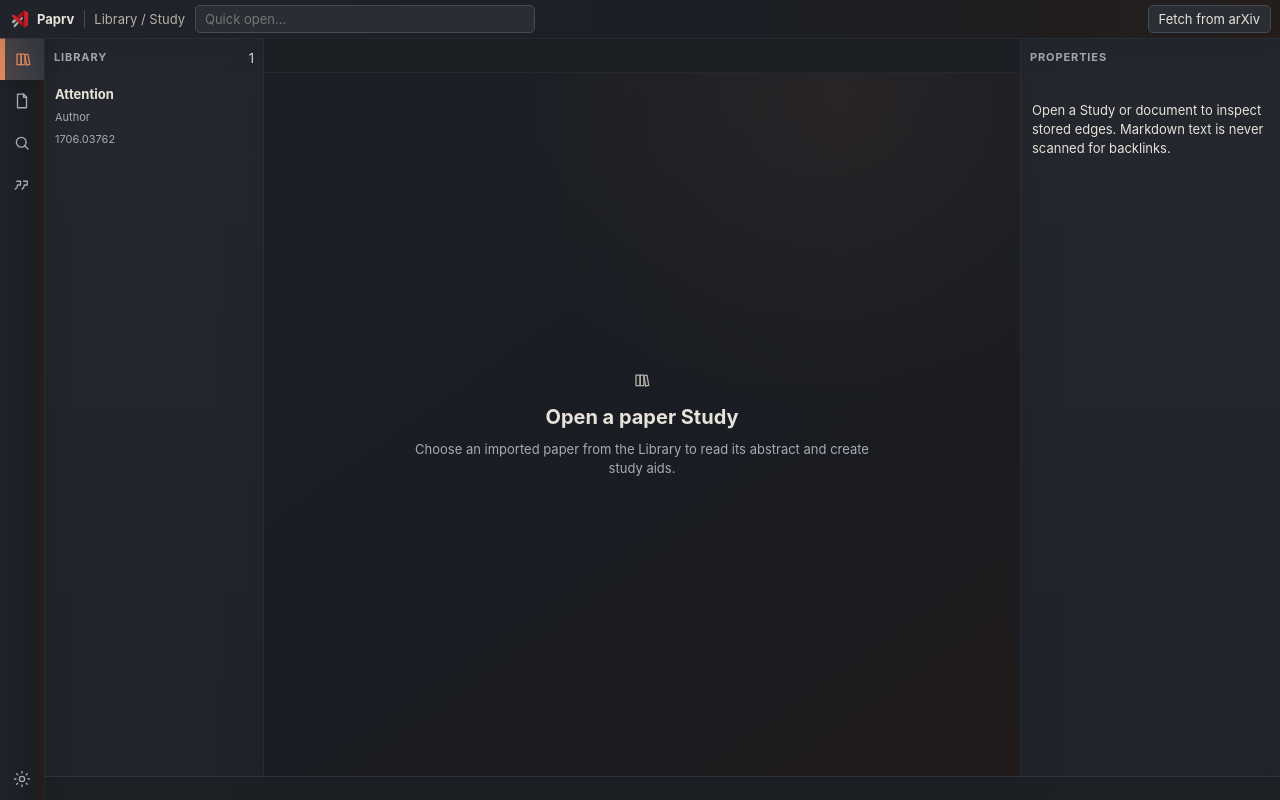
Test: independent Vault and Study workspace › blocks every global workspace shortcut while a generation modal is open
Click the option "Attention Author 1706.03762": (154, 116) x1=44 y1=78 x2=264 y2=155
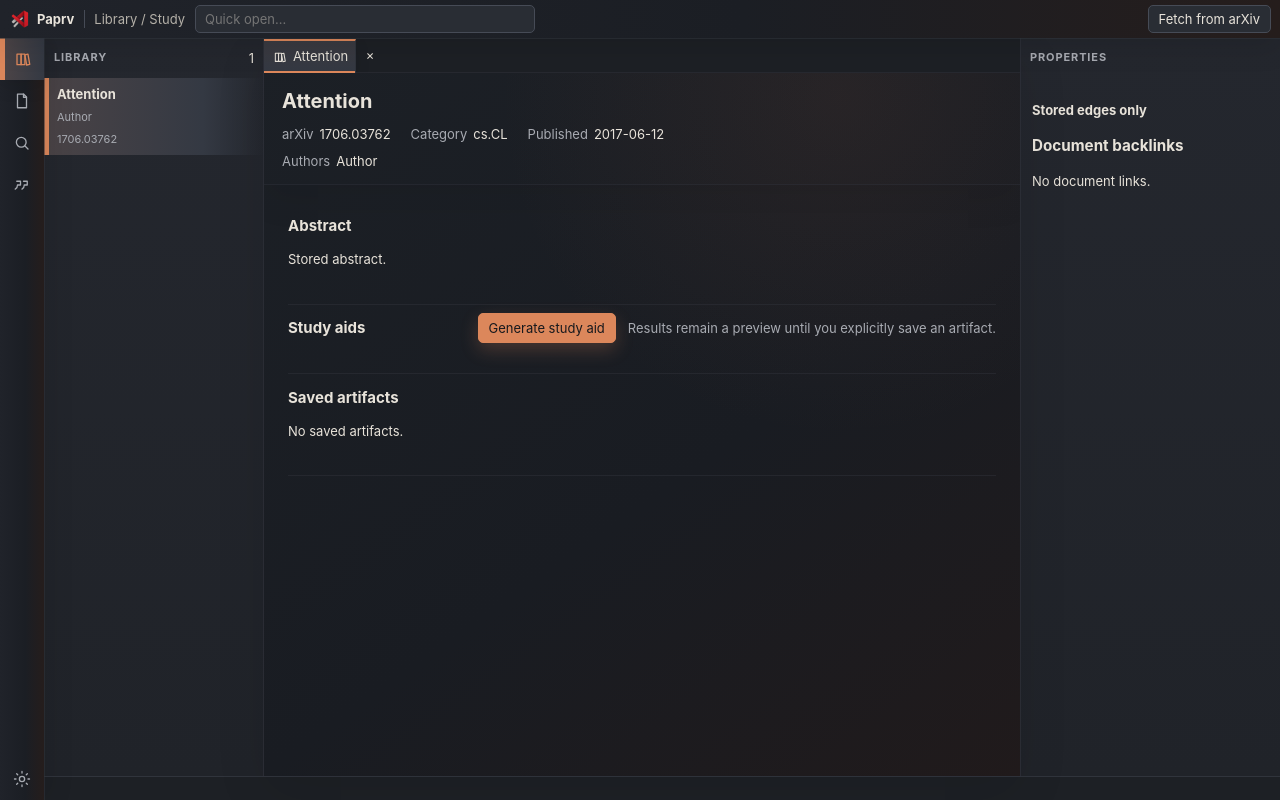
Expected: the button "Generate study aid" is shown
Click the button "Generate study aid": (547, 328) x1=478 y1=313 x2=616 y2=343
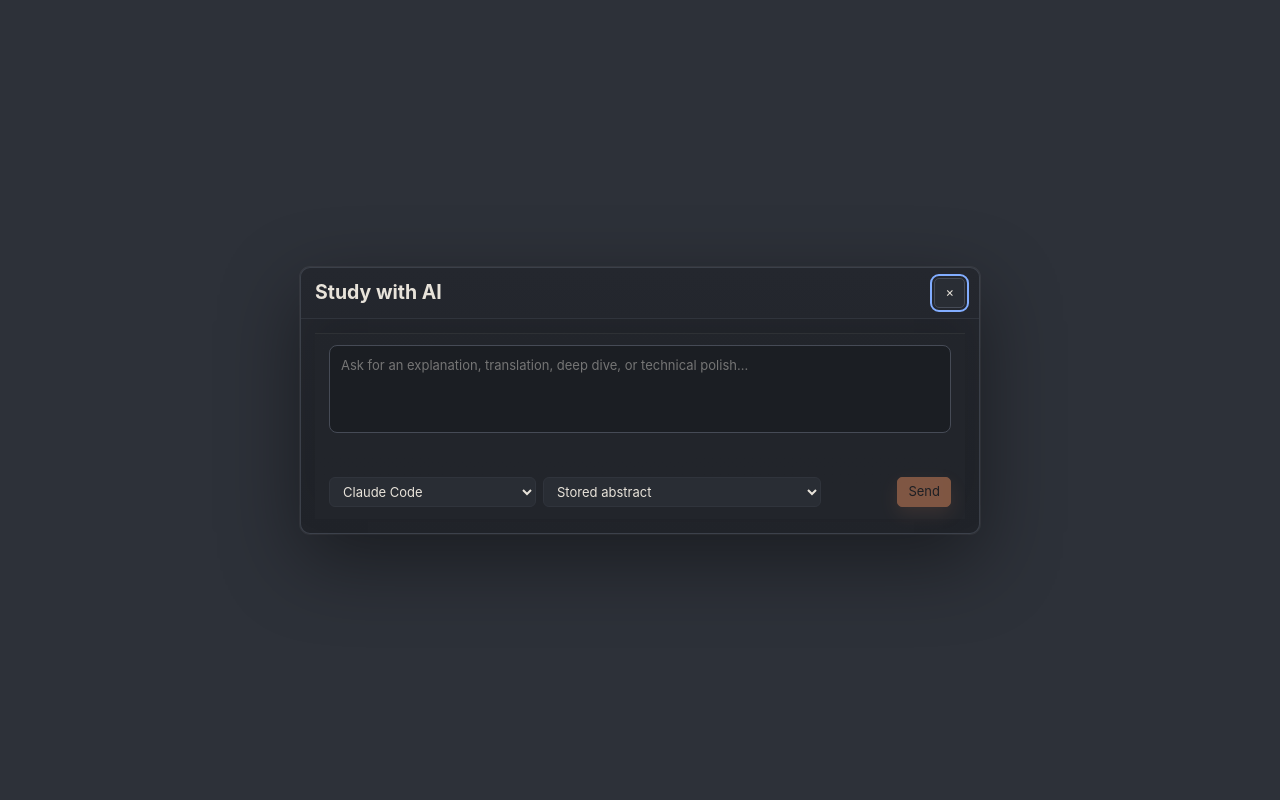
Expected: the number of dialogs is 1, x1=300 y1=266 x2=980 y2=534
